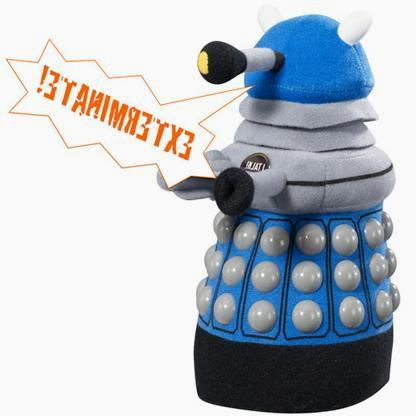dalek: (10, 7, 400, 414)
